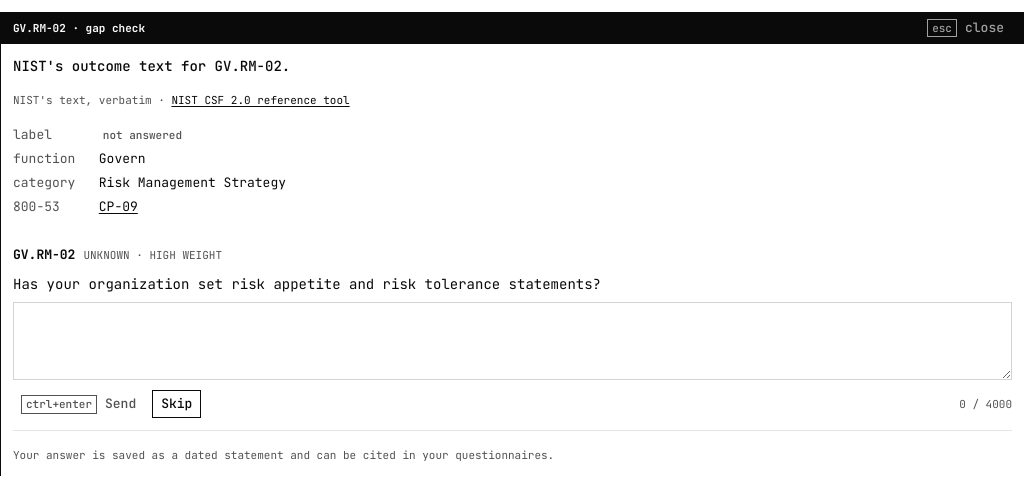
GapDrawer › an Ask-me outcome is answered here and then answered by you
Type "Yes. The board approved a risk appetite statement." into the text box named "your answer to GV.RM-02" at (512, 341), box x1=13 y1=302 x2=1012 y2=380
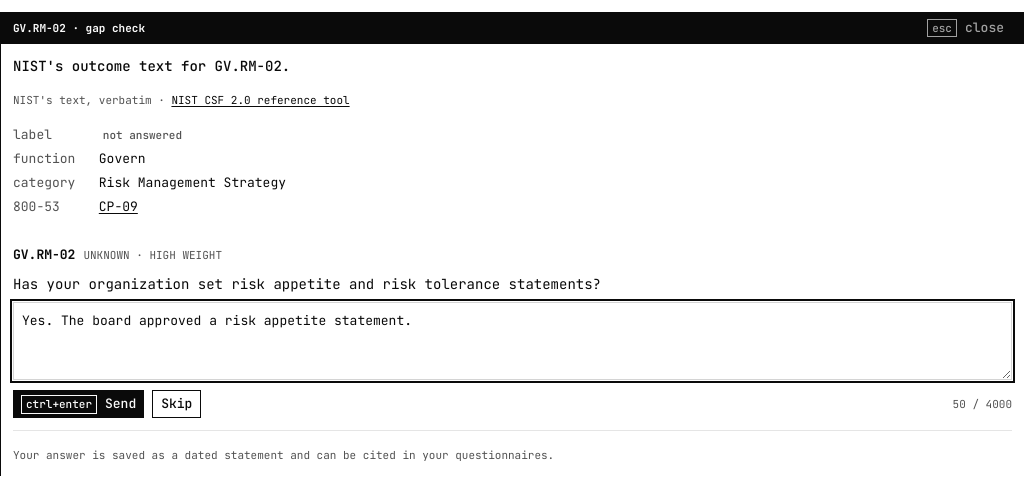
Click the button "ctrl+enter Send" at (79, 404), box x1=13 y1=390 x2=144 y2=418
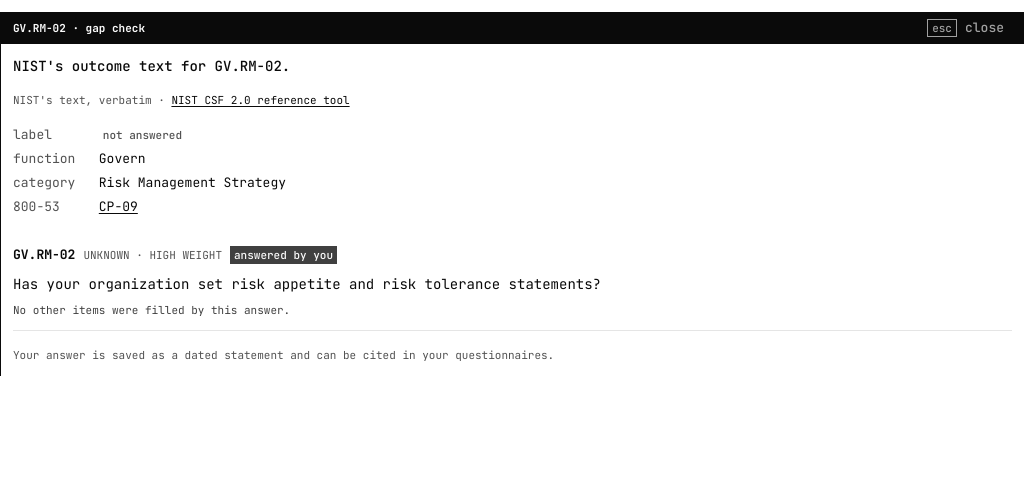
Now the text "answered by you" is shown, box x1=230 y1=246 x2=337 y2=264
